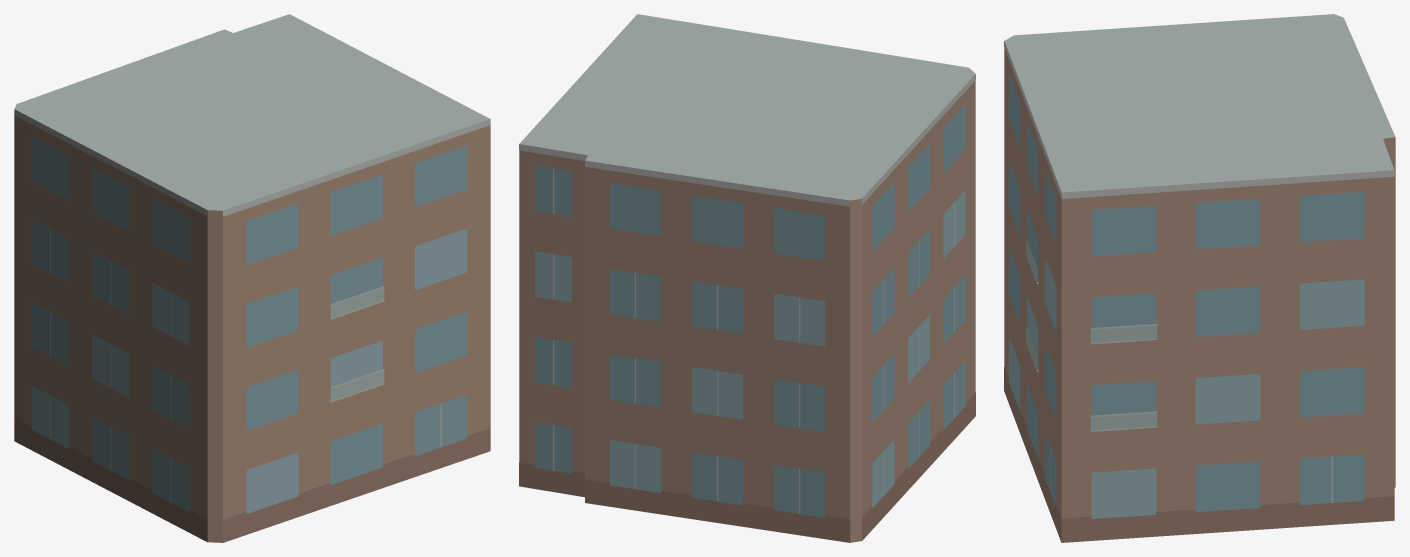
Rendered from survey-upis-33008366.glb.
The picture shows the model from 3 angles, left to right: view 1: azimuth 30°, elevation 25°; view 2: azimuth 150°, elevation 25°; view 3: azimuth 270°, elevation 25°; orthographic projection. The views are drawn at different scales.
Parts seen in each view (by area): view 1: survey-upis-33008366.tmp; view 2: survey-upis-33008366.tmp; view 3: survey-upis-33008366.tmp.
Part boxes in pixels (x1=…): survey-upis-33008366.tmp: x1=14, y1=14, x2=490, y2=542; survey-upis-33008366.tmp: x1=519, y1=14, x2=975, y2=542; survey-upis-33008366.tmp: x1=1004, y1=14, x2=1395, y2=542.
Bounding box in the file's own units: 14.55 × 13.3 × 13.48.
